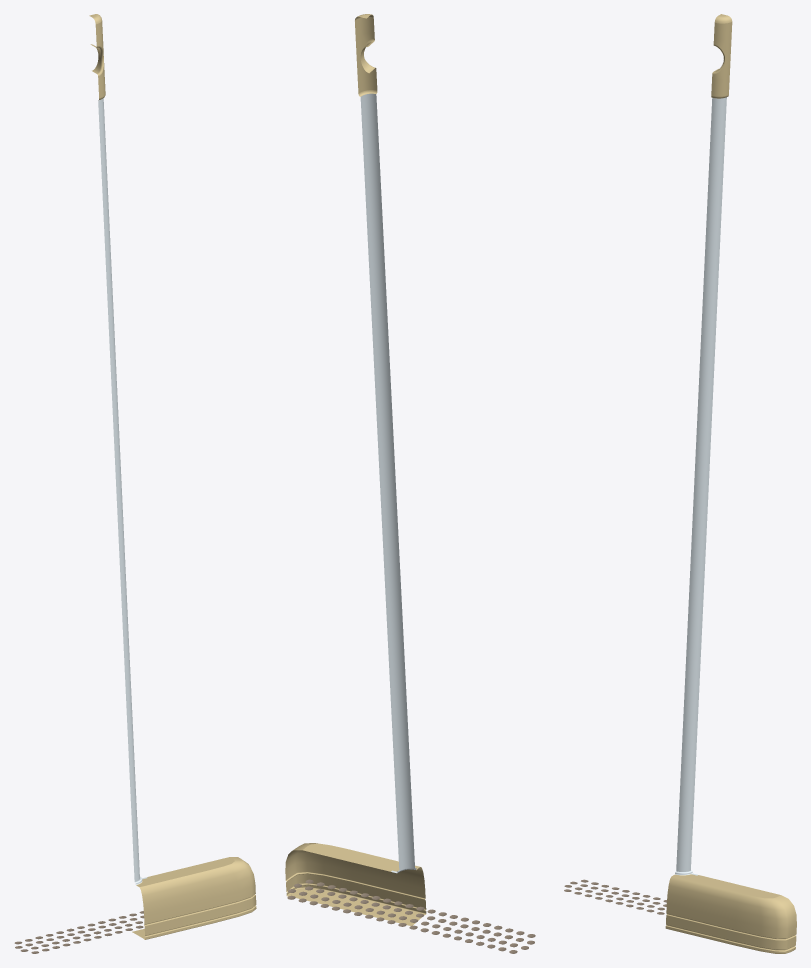
The model's file is janitor_broom.glb.
3 renders of one model, left to right at view 1: azimuth 30°, elevation 25°; view 2: azimuth 150°, elevation 25°; view 3: azimuth 330°, elevation 25°, orthographic. The views are drawn at different scales.
Visible parts, largest first — view 1: Broom.Head.Leaned, Broom.Hair.Leaned; view 2: Broom.Head.Leaned, Broom.Hair.Leaned; view 3: Broom.Head.Leaned, Broom.Hair.Leaned.
Part boxes in pixels (bbox=[...]): Broom.Head.Leaned: bbox=[89, 14, 256, 939]; Broom.Hair.Leaned: bbox=[14, 911, 144, 953]; Broom.Head.Leaned: bbox=[285, 14, 426, 925]; Broom.Hair.Leaned: bbox=[287, 879, 535, 953]; Broom.Head.Leaned: bbox=[665, 14, 796, 953]; Broom.Hair.Leaned: bbox=[564, 879, 666, 914].
Bounding box in the file's own units: 0.2446 × 0.8972 × 0.1033.
